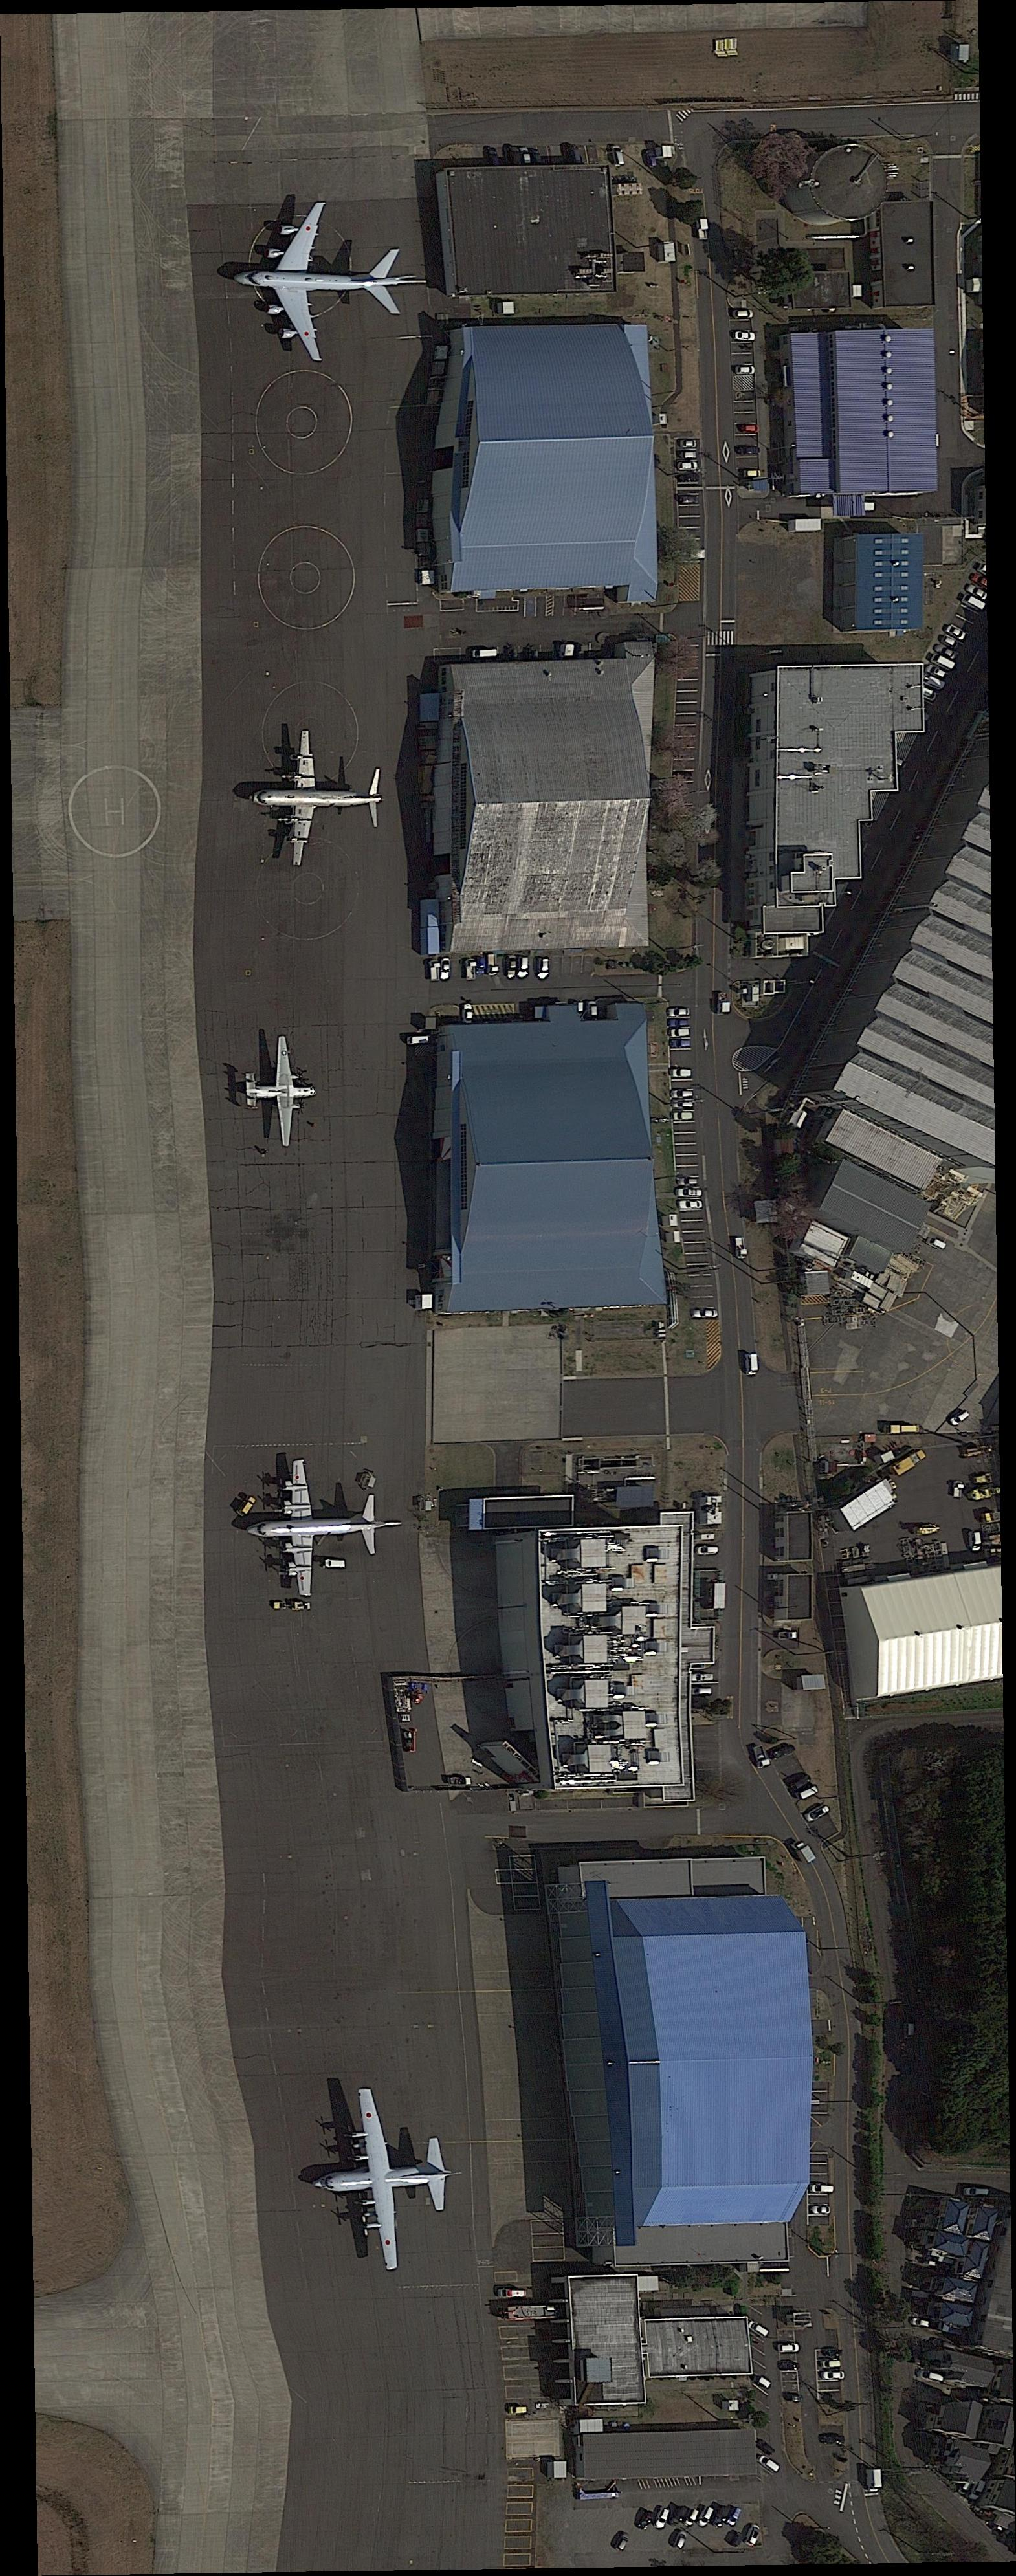plane: (220, 199, 431, 375), (304, 2081, 472, 2275), (233, 728, 401, 889), (245, 1459, 401, 1597), (243, 1035, 319, 1148)
